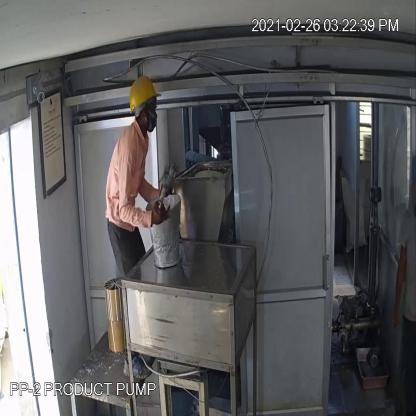helmet: (127, 68, 162, 116)
